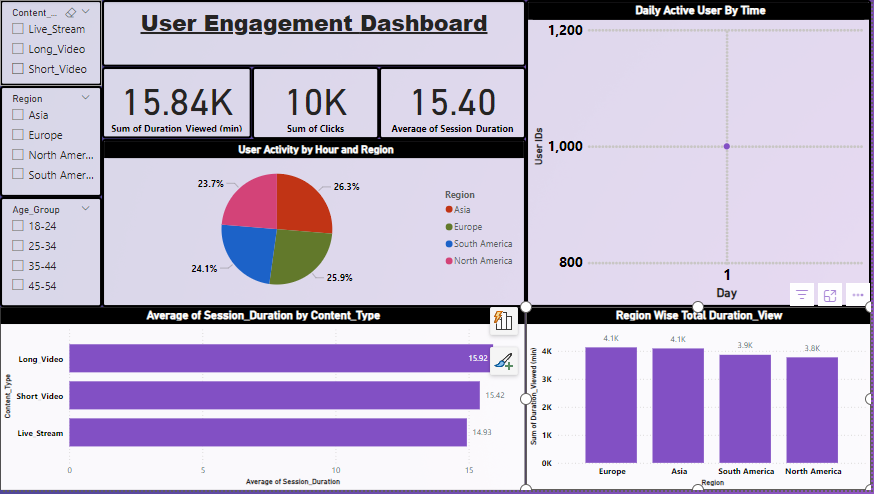

Layout of this report page (visuals, bound fields, positions):
{"tool":"powerbi","page":{"name":"Page 1","canvas":[1280,720],"ordinal":0},"visuals":[{"type":"clusteredBarChart","fields":{"Category":["cleaned_user_engagement.Content_Type"],"Y":["Avg(cleaned_user_engagement.Session_Duration)"]},"box":[0,450.5,772.3,269.9],"z":0},{"type":"lineChart","title":"Daily Active User By Time","fields":{"Category":["cleaned_user_engagement.Session_Start.Variation.Date Hierarchy.Day"],"Y":["CountNonNull(cleaned_user_engagement.User_ID)"]},"box":[772.9,0,506.9,451.1],"z":1},{"type":"card","fields":{"Values":["Sum(cleaned_user_engagement.Clicks)"]},"box":[370.3,98.4,186.6,105.8],"z":2},{"type":"card","fields":{"Values":["Sum(cleaned_user_engagement.Duration_Viewed (min))"]},"box":[150.2,98.3,219.9,105.5],"z":3},{"type":"card","fields":{"Values":["Avg(cleaned_user_engagement.Session_Duration)"]},"box":[556.9,98.4,216,105.8],"z":4},{"type":"slicer","fields":{"Values":["cleaned_user_engagement.Age_Group"]},"box":[0,289.5,149.9,161.6],"z":5},{"type":"slicer","fields":{"Values":["cleaned_user_engagement.Region"]},"box":[0,126.4,149.9,163.1],"z":6},{"type":"slicer","fields":{"Values":["cleaned_user_engagement.Content_Type"]},"box":[0,0,149.9,126.4],"z":7},{"type":"pieChart","title":"User Activity by Hour and Region","fields":{"Category":["cleaned_user_engagement.Hour","cleaned_user_engagement.Region"],"Y":["CountNonNull(cleaned_user_engagement.User_ID)"]},"box":[149.9,204.2,623,246.9],"z":8},{"type":"textbox","box":[149.9,0,623,98.4],"z":9},{"type":"columnChart","title":"Region Wise Total Duration_View","fields":{"Category":["cleaned_user_engagement.Region"],"Y":["Sum(cleaned_user_engagement.Duration_Viewed (min))"]},"box":[773,451,507,269],"z":10}]}

Visuals, with their boxes in screenshot pixels (x1, y1, x2, y2), scaled from the page's 1280x720 canvas onto the 874x494 screenshot:
clusteredBarChart - cleaned_user_engagement.Content_Type x Avg(cleaned_user_engagement.Session_Duration): (0,309,527,493)
"Daily Active User By Time" lineChart: (528,0,873,310)
card - Sum(cleaned_user_engagement.Clicks): (253,68,380,140)
card - Sum(cleaned_user_engagement.Duration_Viewed (min)): (103,67,253,140)
card - Avg(cleaned_user_engagement.Session_Duration): (380,68,528,140)
slicer - cleaned_user_engagement.Age_Group: (0,199,102,310)
slicer - cleaned_user_engagement.Region: (0,87,102,199)
slicer - cleaned_user_engagement.Content_Type: (0,0,102,87)
"User Activity by Hour and Region" pieChart: (102,140,528,310)
textbox: (102,0,528,68)
"Region Wise Total Duration_View" columnChart: (528,309,873,493)
